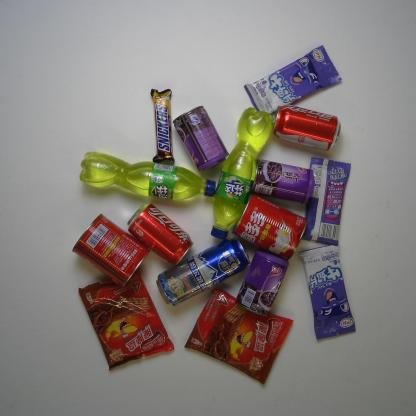Alcohol: (156, 236, 251, 309)
Candy: (243, 44, 344, 116), (297, 244, 356, 341), (300, 156, 352, 246)
Canned Food: (71, 213, 151, 290), (231, 192, 308, 261), (172, 105, 230, 172), (235, 249, 290, 318), (252, 158, 316, 206)
Chocolate: (150, 88, 175, 165)
Dessert: (183, 287, 296, 387), (78, 265, 175, 372)
Drink: (210, 107, 275, 242), (78, 150, 217, 202), (126, 202, 194, 267), (271, 104, 342, 152)
